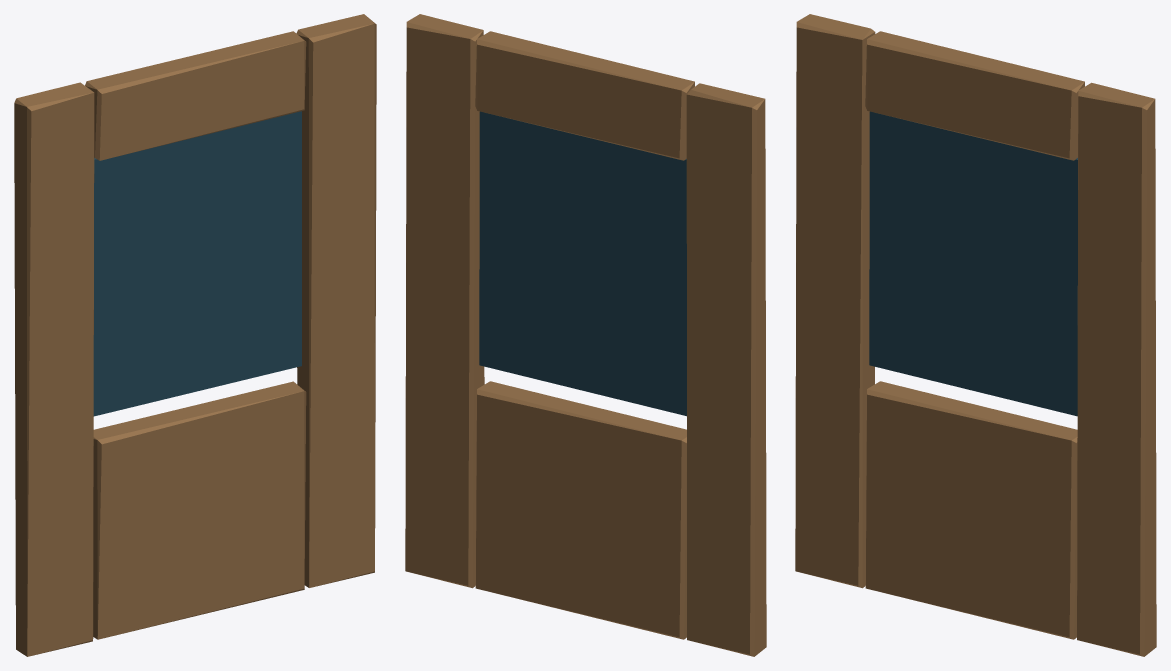
Rendered from harbor-window-wall.lod1.glb.
3 views of the same model, side by side, from view 1: azimuth 30°, elevation 25°; view 2: azimuth 150°, elevation 25°; view 3: azimuth 330°, elevation 25° (orthographic).
Visible parts, largest first — view 1: harbor-window-wall__body; view 2: harbor-window-wall__body; view 3: harbor-window-wall__body.
Part boxes in pixels (left/top/right/bottom): harbor-window-wall__body: left=14, top=14, right=376, bottom=656; harbor-window-wall__body: left=405, top=14, right=766, bottom=656; harbor-window-wall__body: left=795, top=14, right=1156, bottom=656.
Size of the model in its own units: 2 by 2.99 by 0.15.
